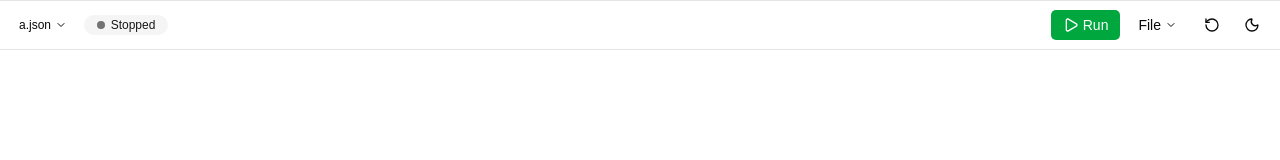
combo file dropdown › opens with an empty list without crashing
What coordinates should you click on to do the following:
click the button with aria-label "Switch combo file"
I would click on:
 (43, 25)
Its box is [10,11,76,39].
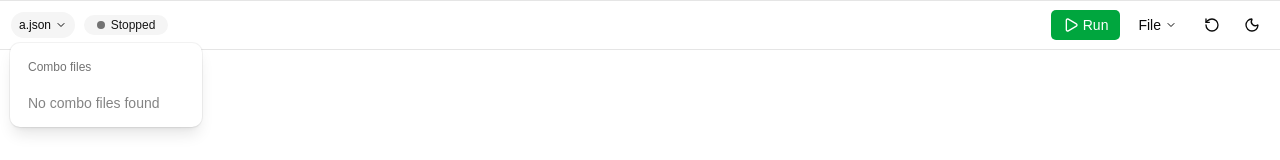
Check: the menu item "No combo files found" is shown, box [28,95,160,111]
